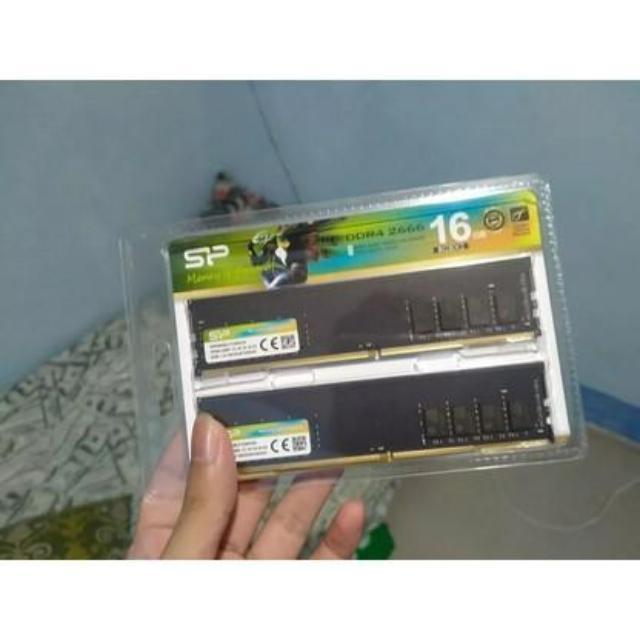RAM: (185, 252, 550, 388), (198, 357, 578, 475)
